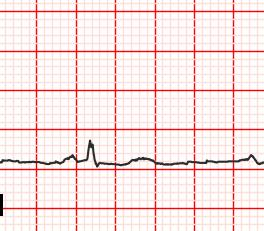Poor R Progression: (80, 137, 105, 171)
